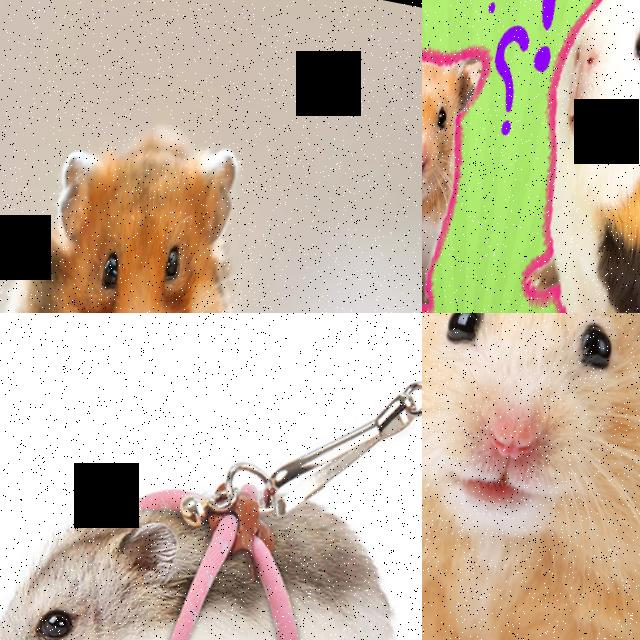hamster: (0, 435, 417, 640), (422, 313, 640, 640), (0, 99, 288, 313), (422, 26, 487, 313)
